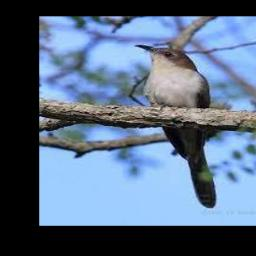Cuckoo: (134, 44, 218, 208)
